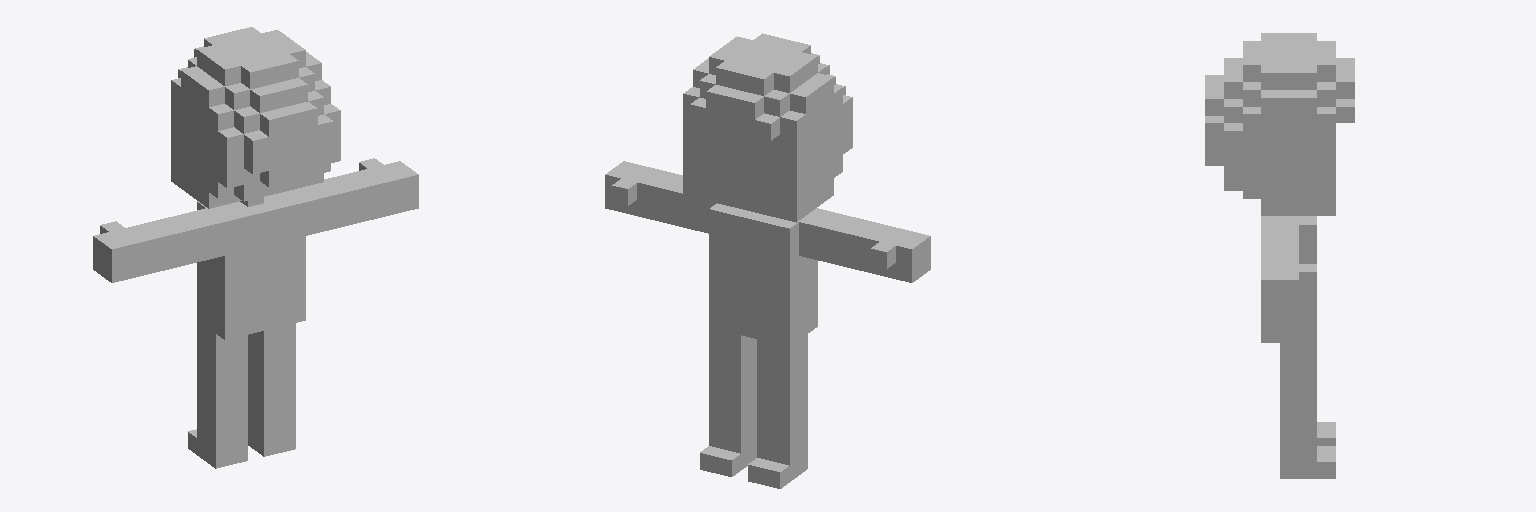
The model's file is Player - Dude.obj.
3 renders of one model, left to right at view 1: azimuth 30°, elevation 25°; view 2: azimuth 150°, elevation 25°; view 3: azimuth 270°, elevation 25°, orthographic.
Parts seen in each view (by area): view 1: Player - Dude; view 2: Player - Dude; view 3: Player - Dude.
Boxes of the visible parts, x1,y1,x2,y2 form: Player - Dude: [93, 27, 418, 468]; Player - Dude: [605, 33, 930, 488]; Player - Dude: [1205, 33, 1354, 478].
Bounding box in the file's own units: 19 × 24 × 8.